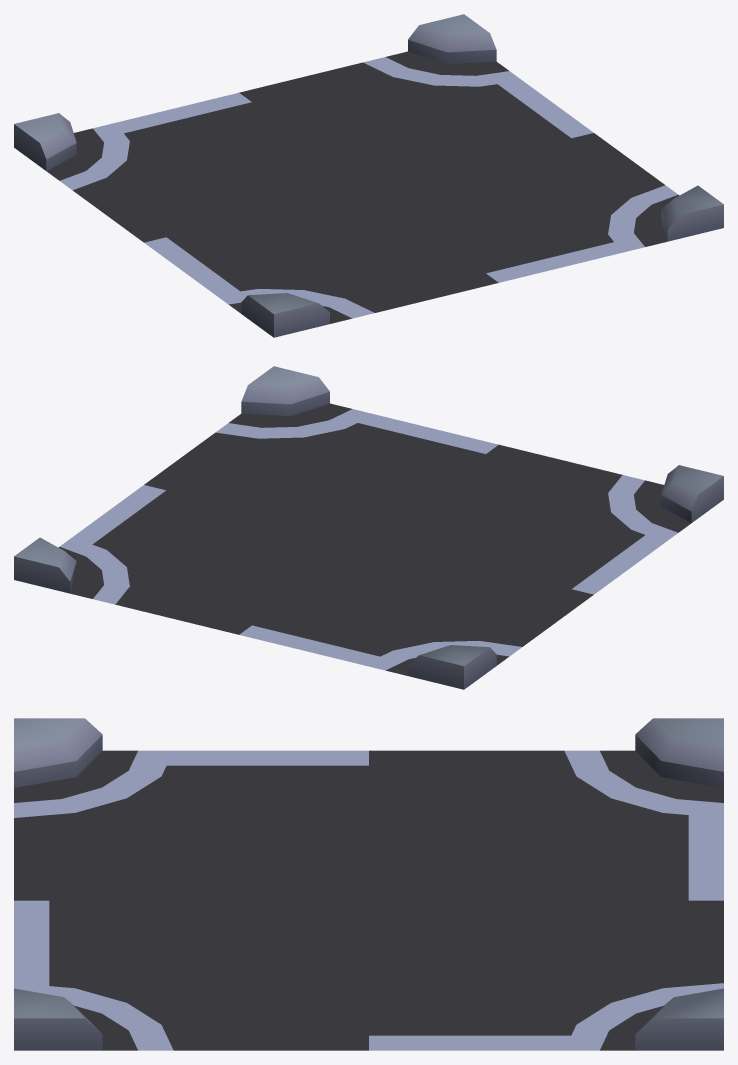
File: road-intersection.glb
3 views of the same model, one above another, from view 1: azimuth 30°, elevation 25°; view 2: azimuth 150°, elevation 25°; view 3: azimuth 270°, elevation 25° (orthographic). The views are drawn at different scales.
Parts seen in each view (by area): view 1: road-intersection; view 2: road-intersection; view 3: road-intersection.
Boxes of the visible parts, box(x1,y1,x2,y2) form: road-intersection: box(14, 14, 723, 337); road-intersection: box(14, 366, 723, 689); road-intersection: box(14, 718, 723, 1050).
Bounding box in the file's own units: 1 × 0.0501 × 1.
1 material, 1 textured.
